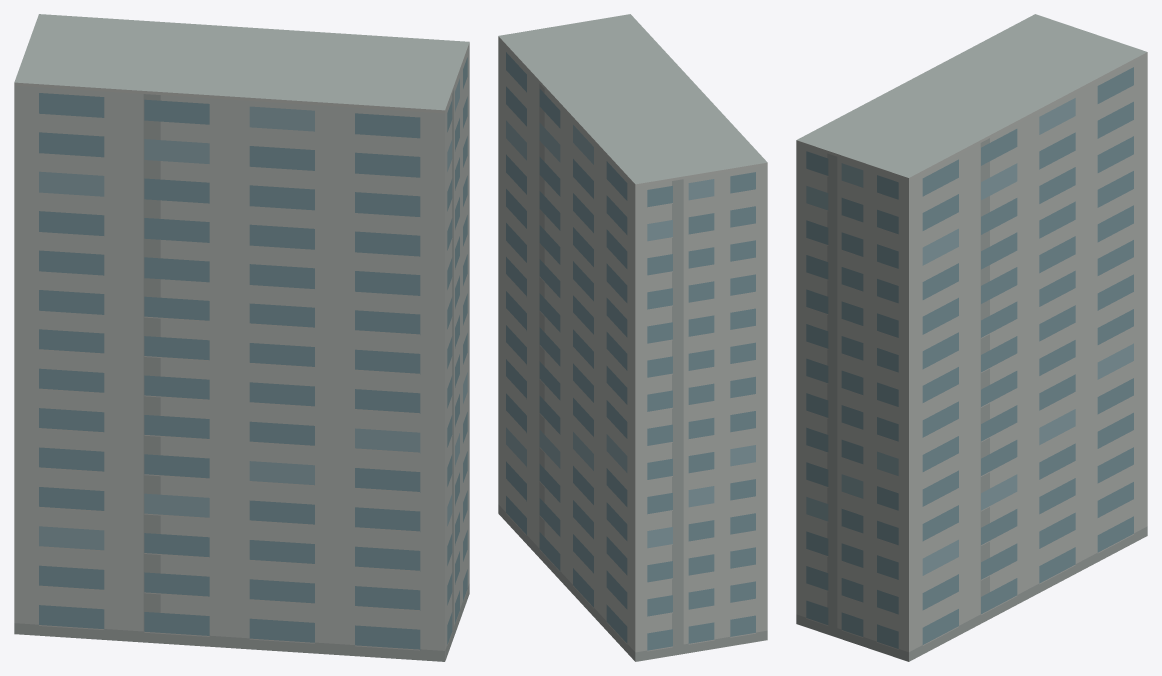
The model's file is residential-cf8085c7-85f1-41a5-822b-354e5acf0f71.glb.
The picture shows the model from 3 angles, left to right: view 1: azimuth 30°, elevation 25°; view 2: azimuth 150°, elevation 25°; view 3: azimuth 270°, elevation 25°; orthographic projection. The views are drawn at different scales.
Visible parts, largest first — view 1: residential-cf8085c7-85f1-41a5-822b-354e5acf0f71.tmp; view 2: residential-cf8085c7-85f1-41a5-822b-354e5acf0f71.tmp; view 3: residential-cf8085c7-85f1-41a5-822b-354e5acf0f71.tmp.
Part boxes in pixels (x1=…): residential-cf8085c7-85f1-41a5-822b-354e5acf0f71.tmp: x1=14, y1=14, x2=469, y2=661; residential-cf8085c7-85f1-41a5-822b-354e5acf0f71.tmp: x1=498, y1=14, x2=767, y2=661; residential-cf8085c7-85f1-41a5-822b-354e5acf0f71.tmp: x1=796, y1=14, x2=1147, y2=661.
Bounding box in the file's own units: 31.29 × 43 × 28.31.
